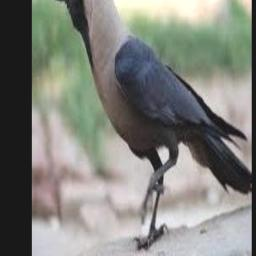Crow: (51, 0, 251, 251)
